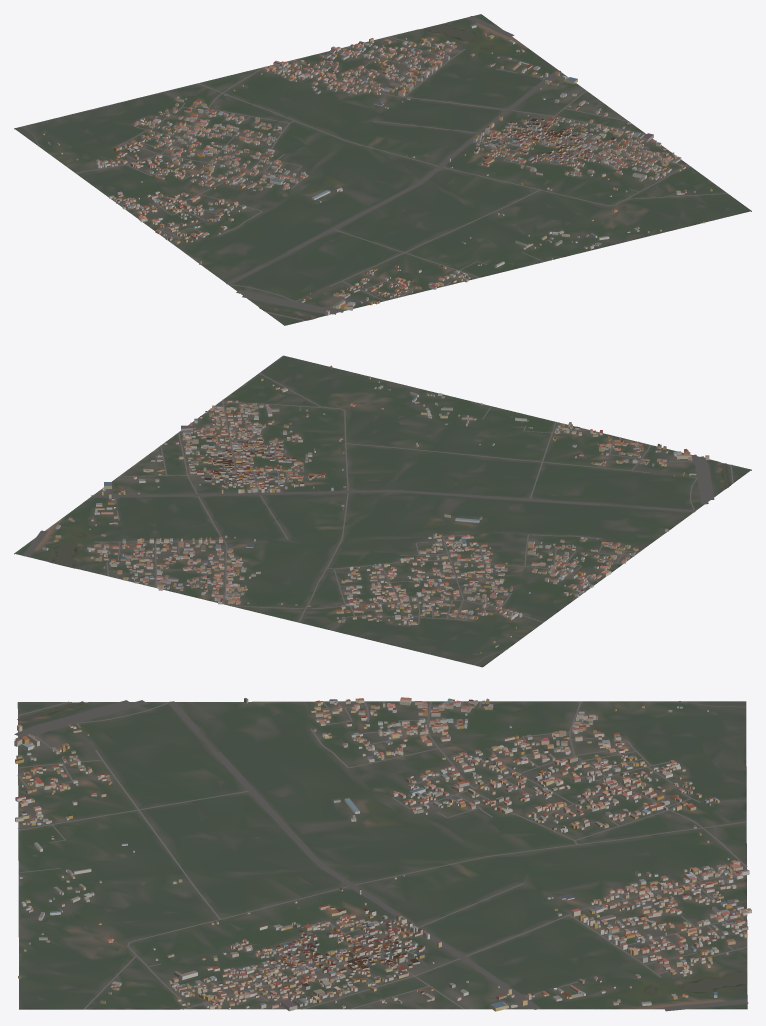
3 renders of one model, top to bottom at view 1: azimuth 30°, elevation 25°; view 2: azimuth 150°, elevation 25°; view 3: azimuth 270°, elevation 25°, orthographic. The views are drawn at different scales.
Parts seen in each view (by area): view 1: ground, buildings, roads, water; view 2: ground, buildings, roads, water; view 3: ground, buildings, roads, water.
Part boxes in pixels (box(x1,y1,x2,y2)): ground: box(14, 14, 751, 325); buildings: box(43, 24, 712, 315); roads: box(22, 16, 727, 320); water: box(259, 23, 591, 319); ground: box(14, 355, 751, 667); buildings: box(42, 365, 709, 653); roads: box(22, 373, 733, 665); water: box(52, 404, 728, 567); ground: box(17, 701, 747, 1009); buildings: box(14, 697, 751, 1011); roads: box(14, 700, 748, 1011); water: box(17, 701, 746, 993).
Bounding box in the file's own units: 1419 × 15.98 × 1420.
